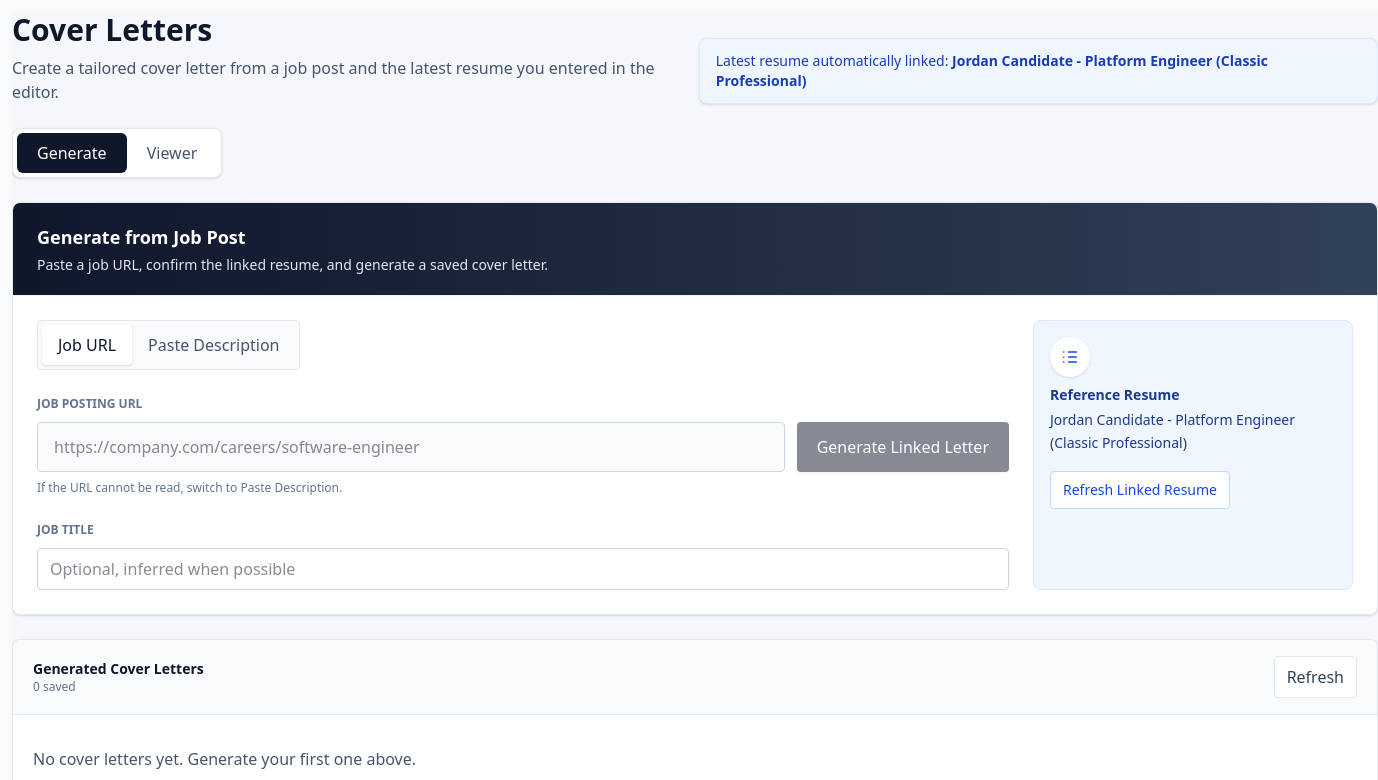
it: CoverLettersPage › generates a saved cover letter from a job URL
The width and height of the screenshot is (1378, 780).
Expected: the text "Latest resume automatically linked" is shown, 716,51 -> 952,70
Type "https://jobs.example.com/platform-engineer" into the field labelled "Job Posting URL" at [411, 447], box 37,422 -> 785,472
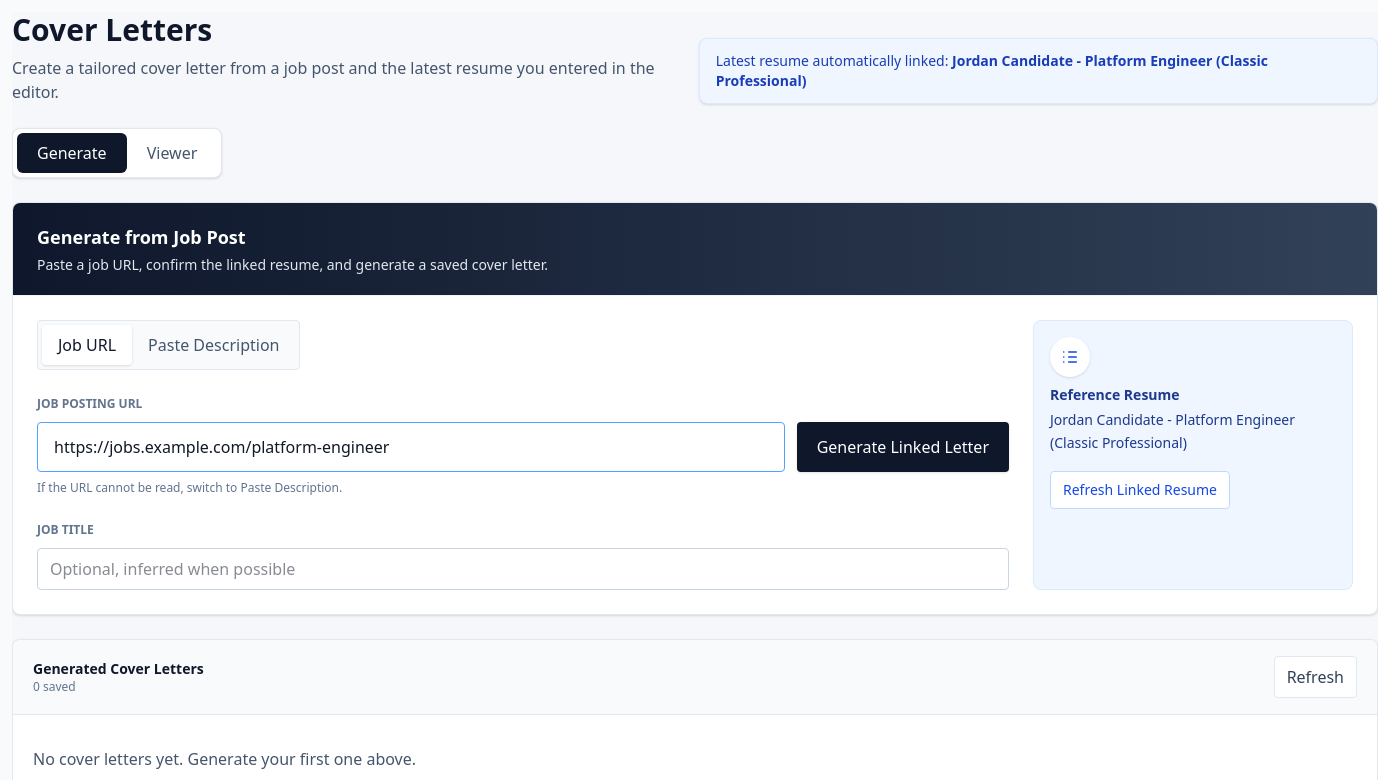
Click the button "Generate Linked Letter" at [903, 447], box 797,422 -> 1009,472
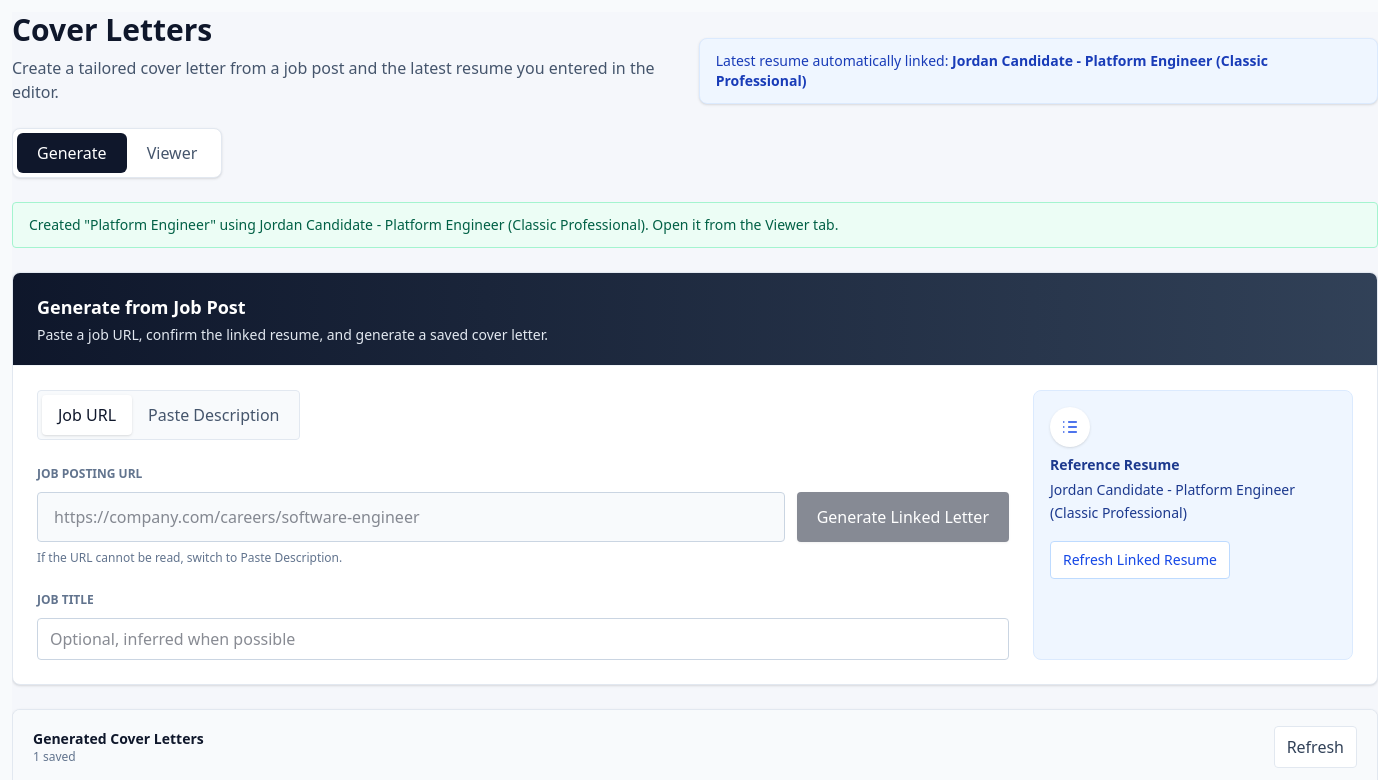
Now the text "Created \"Platform Engineer\" using Jordan Candidate" is shown, box 29,215 -> 838,234
